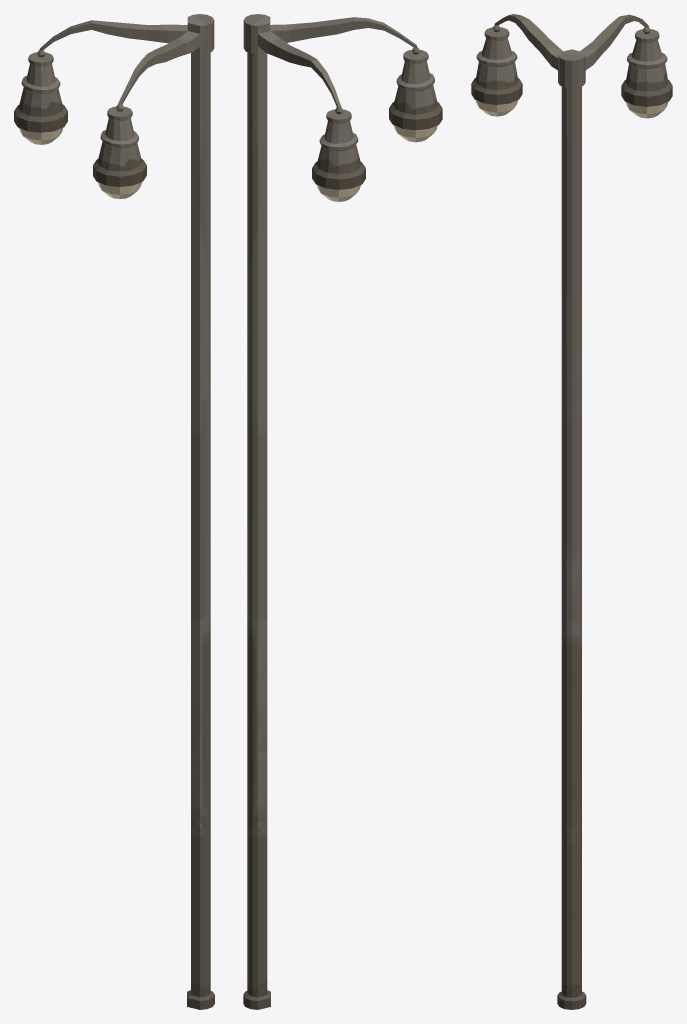
The model's file is LampTwo.FBX.
3 views of the same model, side by side, from view 1: azimuth 30°, elevation 25°; view 2: azimuth 150°, elevation 25°; view 3: azimuth 270°, elevation 25° (orthographic). The views are drawn at different scales.
Visible parts, largest first — view 1: Object001; view 2: Object001; view 3: Object001.
Boxes of the visible parts, <box> form: Object001: <box>14,14,214,1009</box>; Object001: <box>243,14,442,1009</box>; Object001: <box>471,14,672,1009</box>.
Size of the model in its own units: 83.79 by 504 by 97.04.
